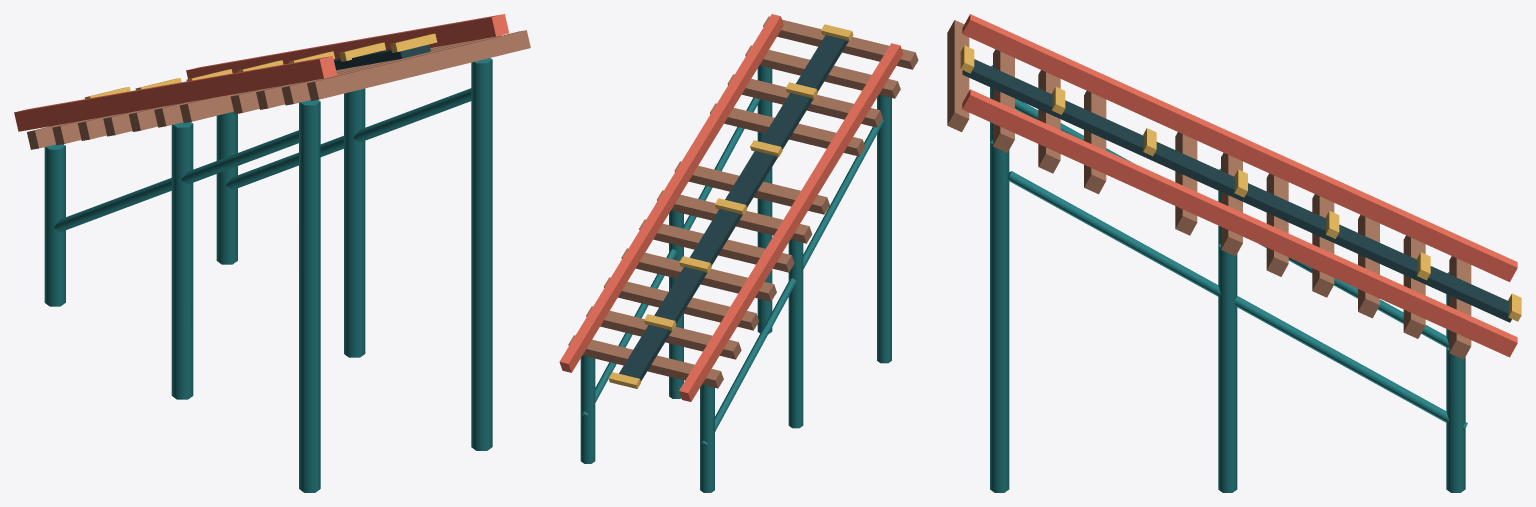
The model's file is track_lift.glb.
The picture shows the model from 3 angles, left to right: view 1: azimuth 30°, elevation 25°; view 2: azimuth 150°, elevation 25°; view 3: azimuth 270°, elevation 25°; orthographic projection. The views are drawn at different scales.
Parts seen in each view (by area): view 1: track_lift; view 2: track_lift; view 3: track_lift.
Part boxes in pixels (x1,y1,x2,y2): track_lift: [14, 14, 530, 492]; track_lift: [559, 14, 918, 492]; track_lift: [947, 14, 1521, 492].
Bounding box in the file's own units: 1.6 × 3.21 × 4.2.
